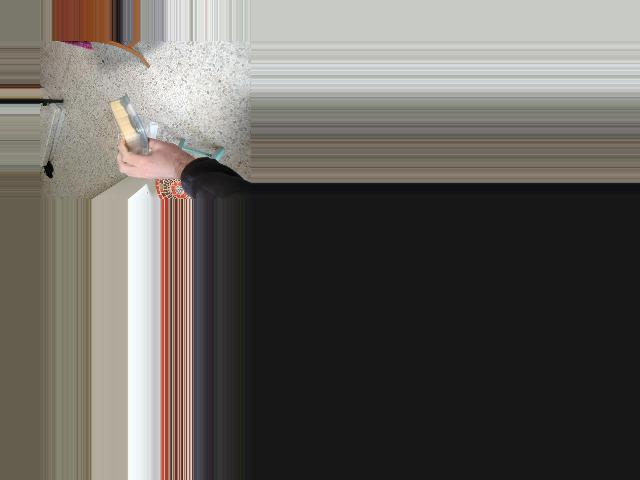cheese: (88, 90, 165, 185)
